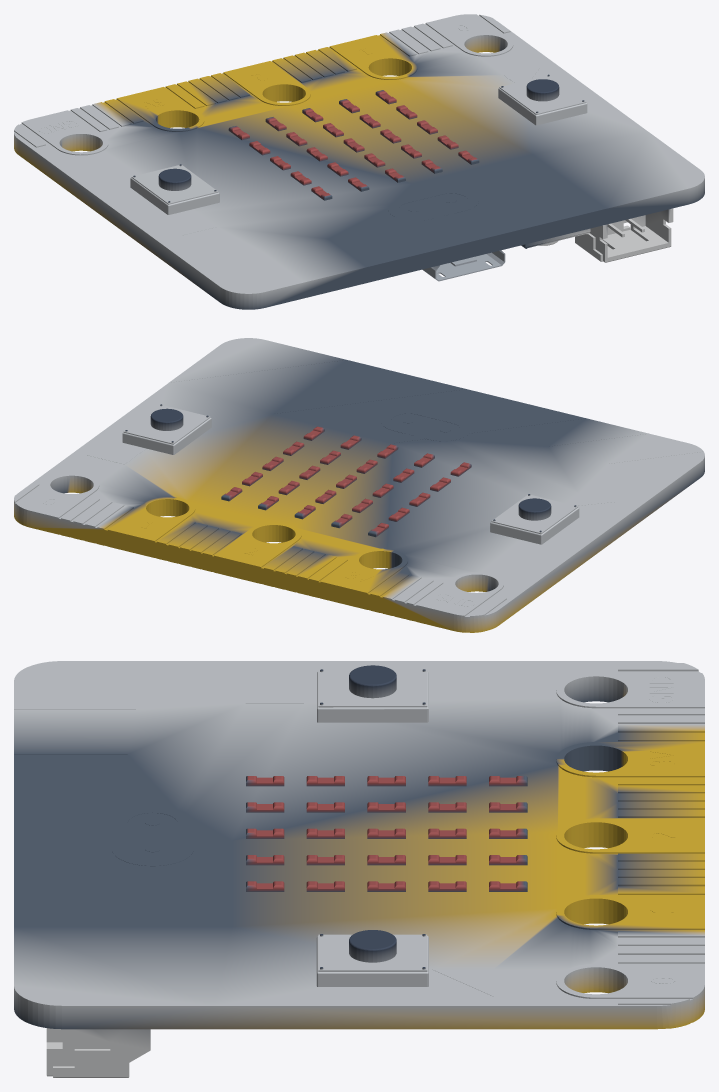
The model's file is microbit_colored.glb.
3 views of the same model, one above another, from view 1: azimuth 30°, elevation 25°; view 2: azimuth 150°, elevation 25°; view 3: azimuth 270°, elevation 25° (orthographic). The views are drawn at different scales.
Parts seen in each view (by area): view 1: geometry_0; view 2: geometry_0; view 3: geometry_0.
Part boxes in pixels (bbox=[...]): geometry_0: bbox=[14, 14, 704, 309]; geometry_0: bbox=[14, 338, 704, 632]; geometry_0: bbox=[14, 661, 704, 1077].
Size of the model in its own units: 5.1 by 0.8617 by 4.32.
